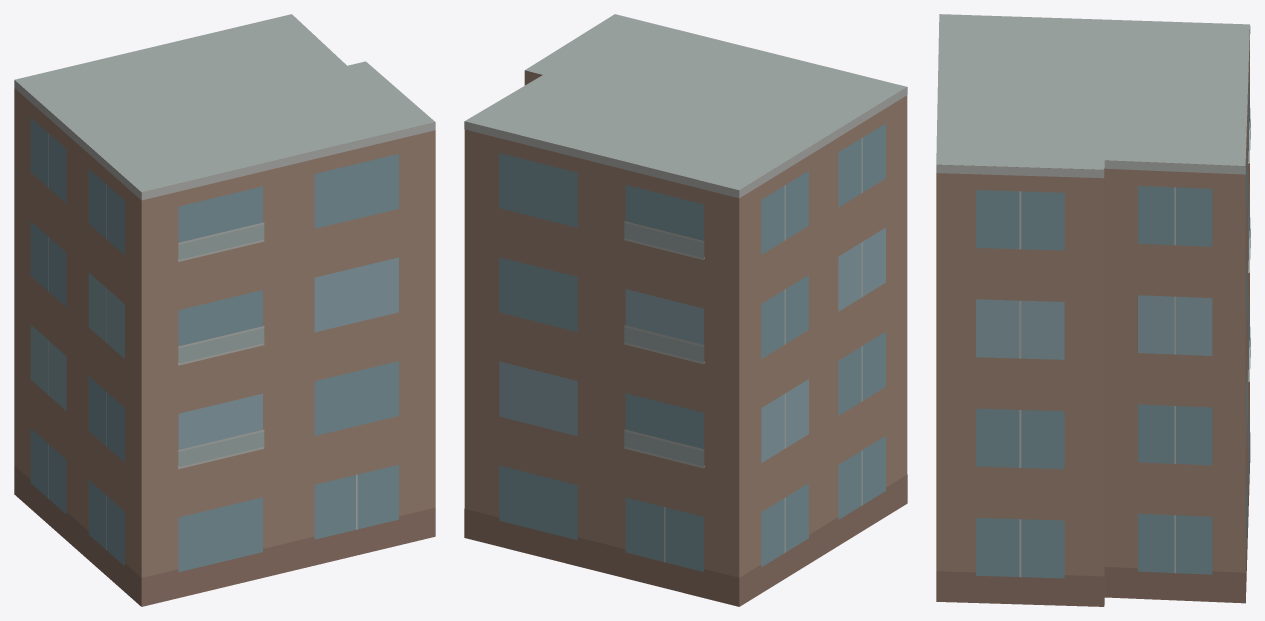
The model's file is survey-upis-32462604.glb.
3 renders of one model, left to right at view 1: azimuth 30°, elevation 25°; view 2: azimuth 150°, elevation 25°; view 3: azimuth 270°, elevation 25°, orthographic. The views are drawn at different scales.
Visible parts, largest first — view 1: survey-upis-32462604.tmp; view 2: survey-upis-32462604.tmp; view 3: survey-upis-32462604.tmp.
Part boxes in pixels (left/top/right/bottom): survey-upis-32462604.tmp: left=14, top=14, right=435, bottom=606; survey-upis-32462604.tmp: left=464, top=14, right=907, bottom=606; survey-upis-32462604.tmp: left=936, top=14, right=1250, bottom=606.
Bounding box in the file's own units: 9.61 × 12.56 × 8.2.
